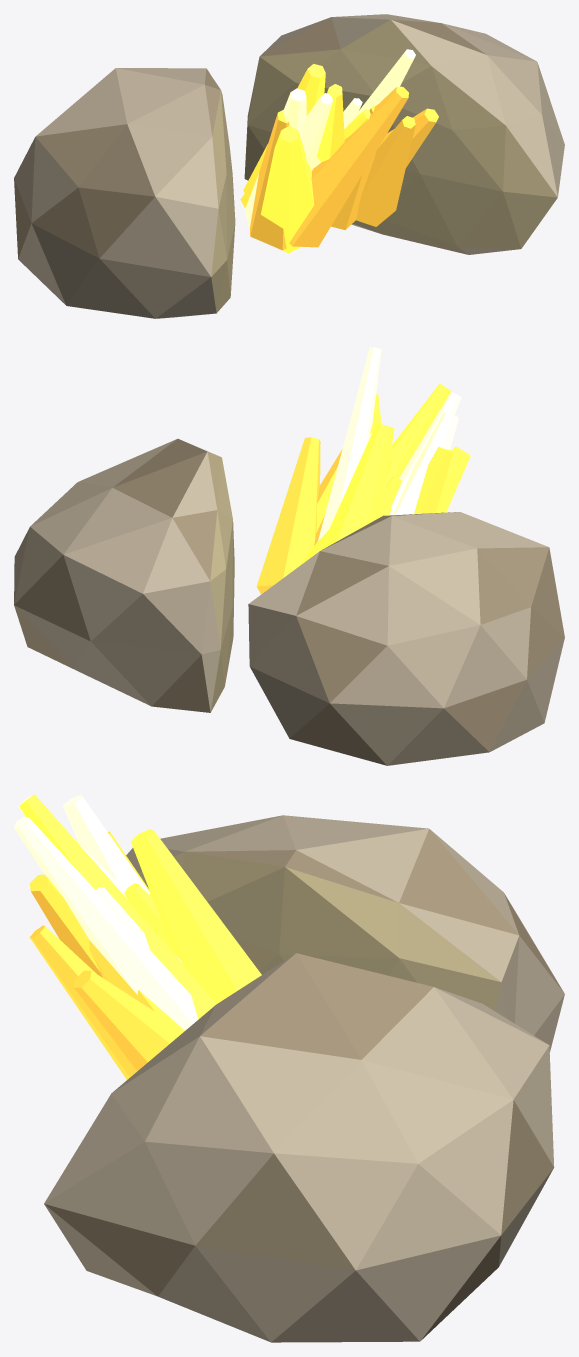
Rendered from enxofre.glb.
3 renders of one model, top to bottom at view 1: azimuth 30°, elevation 25°; view 2: azimuth 150°, elevation 25°; view 3: azimuth 270°, elevation 25°, orthographic. The views are drawn at different scales.
Parts seen in each view (by area): view 1: enxofre; view 2: enxofre; view 3: enxofre.
Boxes of the visible parts, <box> form: enxofre: <box>14,14,564,318</box>; enxofre: <box>14,347,564,765</box>; enxofre: <box>14,794,564,1342</box>.
Size of the model in its own units: 1.66 by 0.8441 by 1.06.
